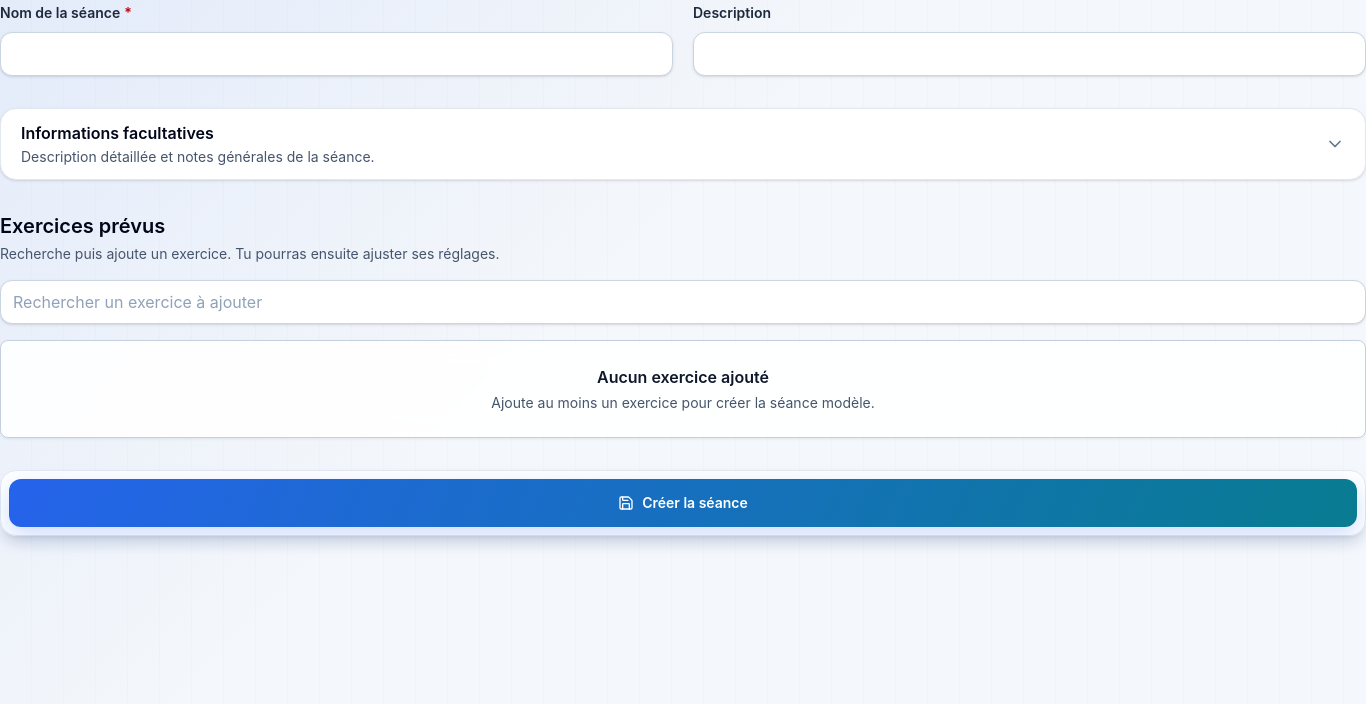
Test case: WorkoutTemplateForm › réorganise et supprime les exercices depuis leurs cartes compactes
Type "Développé couché" into the search field named "Rechercher un exercice à ajouter au modèle" at [683, 302], box [0,280,1365,324]
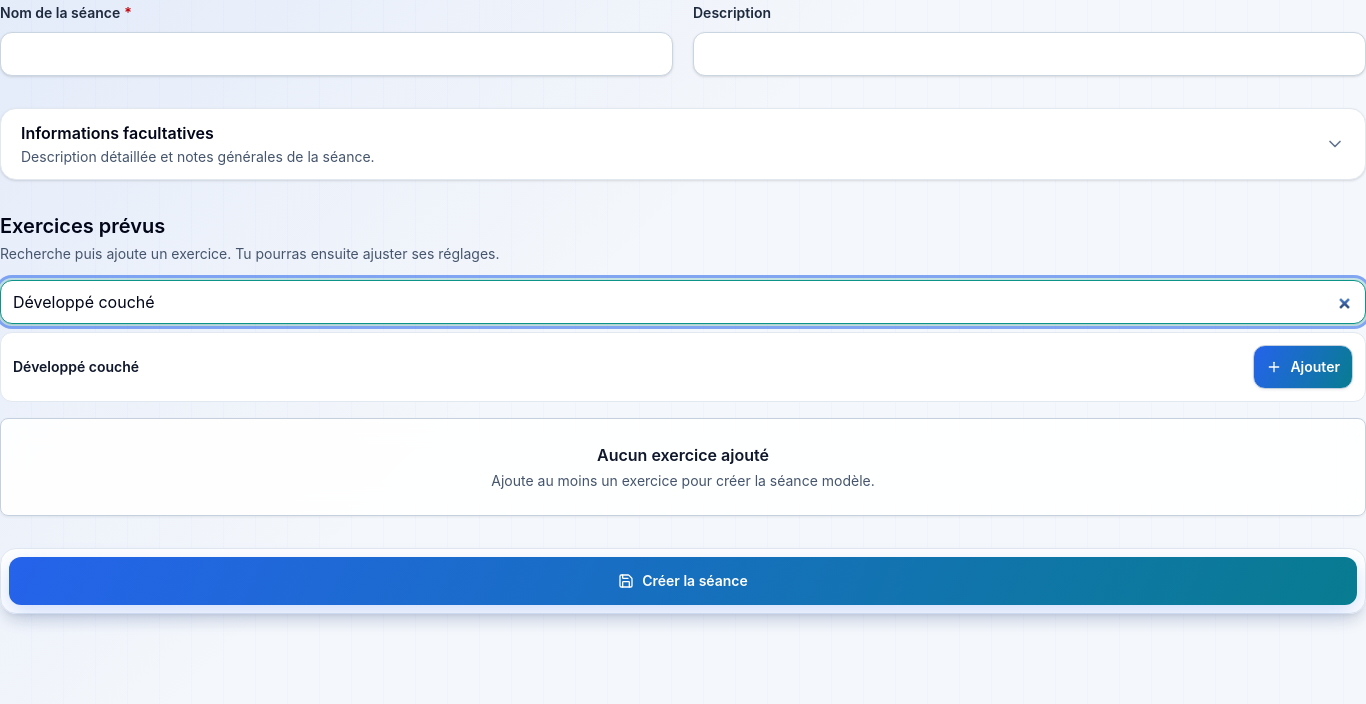
Click the button "Ajouter" at [1303, 367], box [1253,345,1353,389]
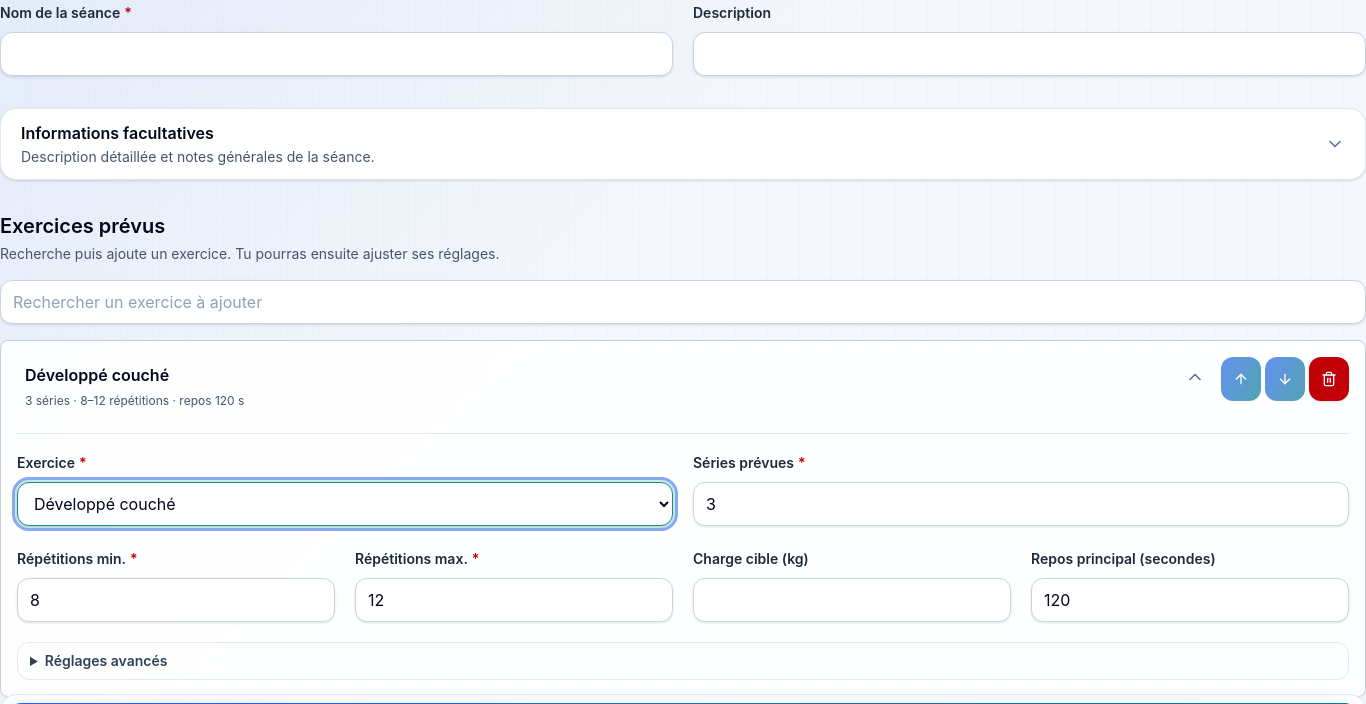
Type "Gainage" into the search field named "Rechercher un exercice à ajouter au modèle" at [683, 302], box [0,280,1365,324]
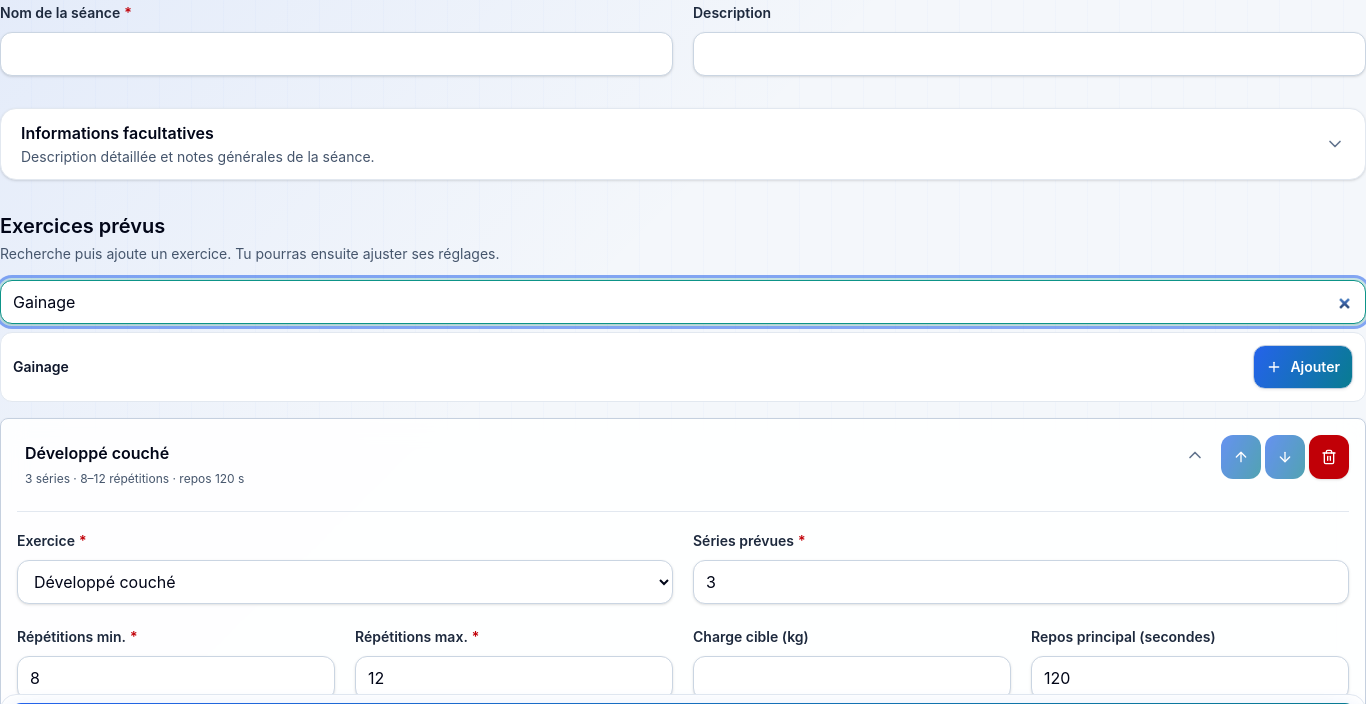
Click the button "Ajouter" at [1303, 367], box [1253,345,1353,389]
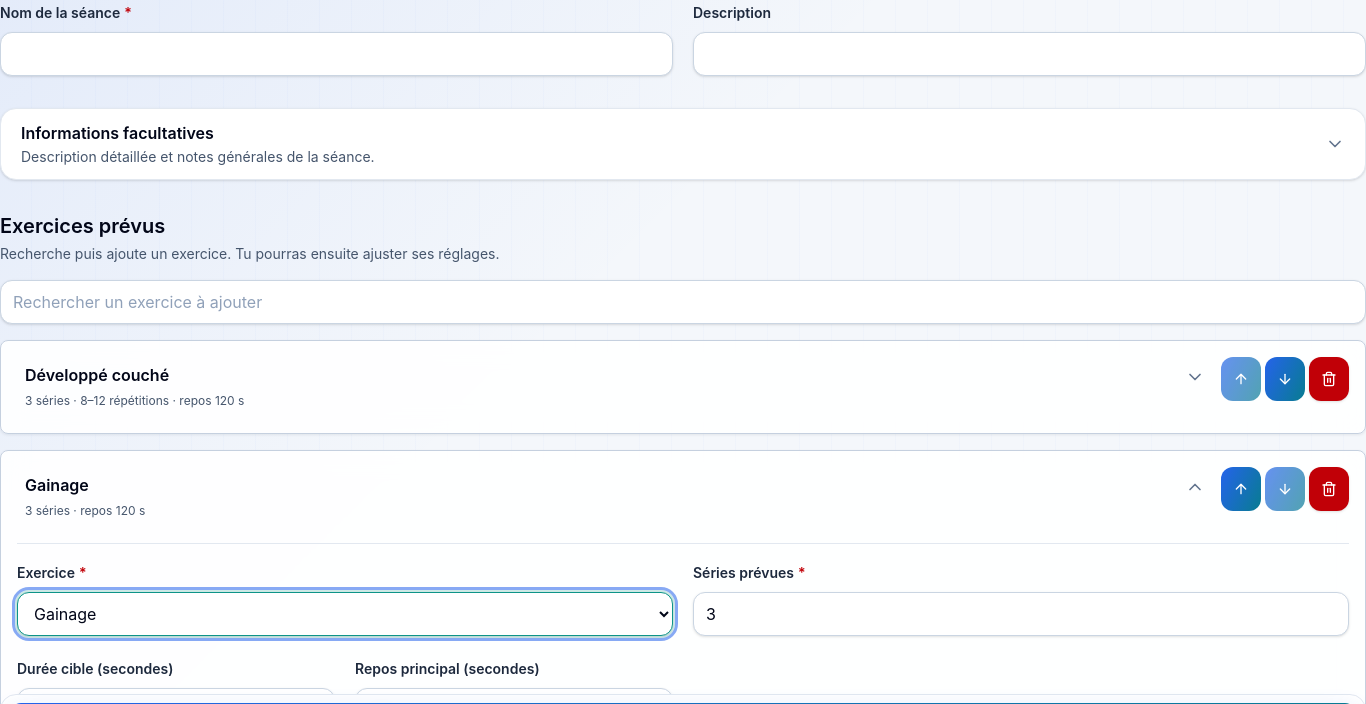
Click the button named "Monter l’exercice 2" at [1241, 489], box [1221,467,1261,511]
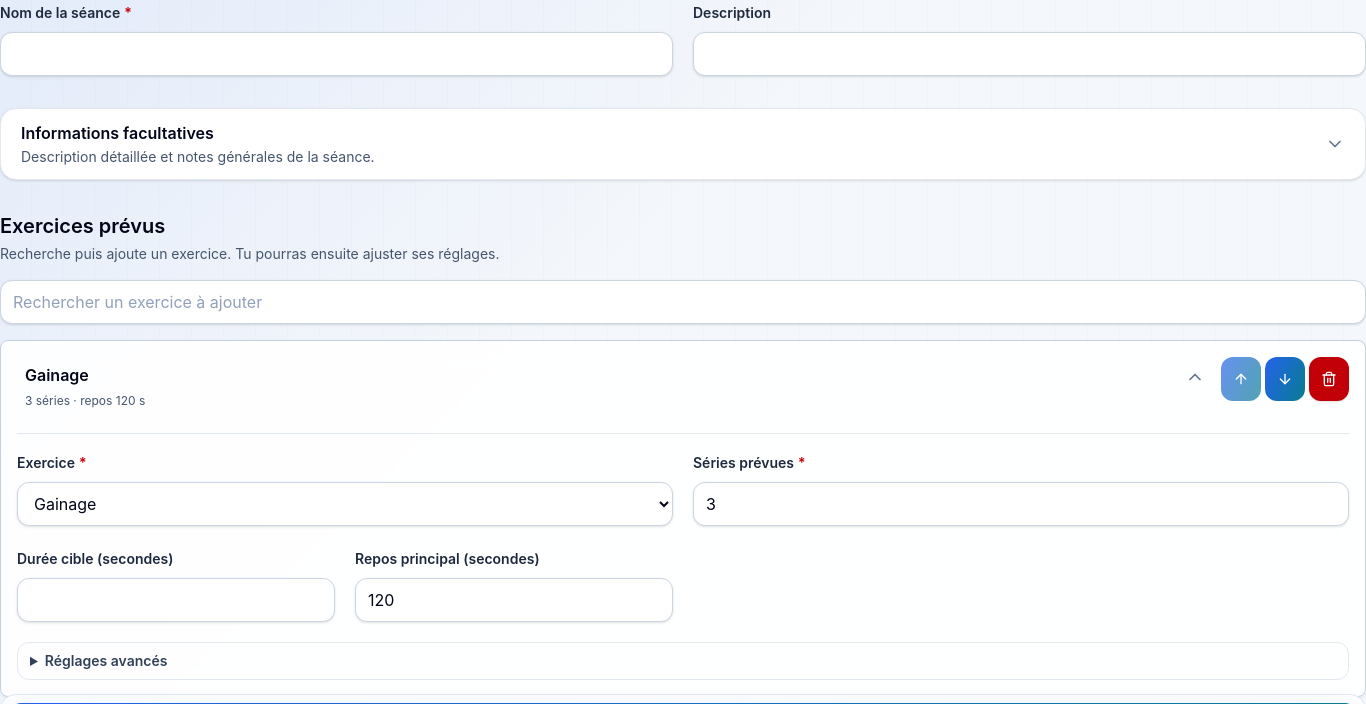
Click the button named "Supprimer l’exercice 1" at [1329, 379], box [1309,357,1349,401]
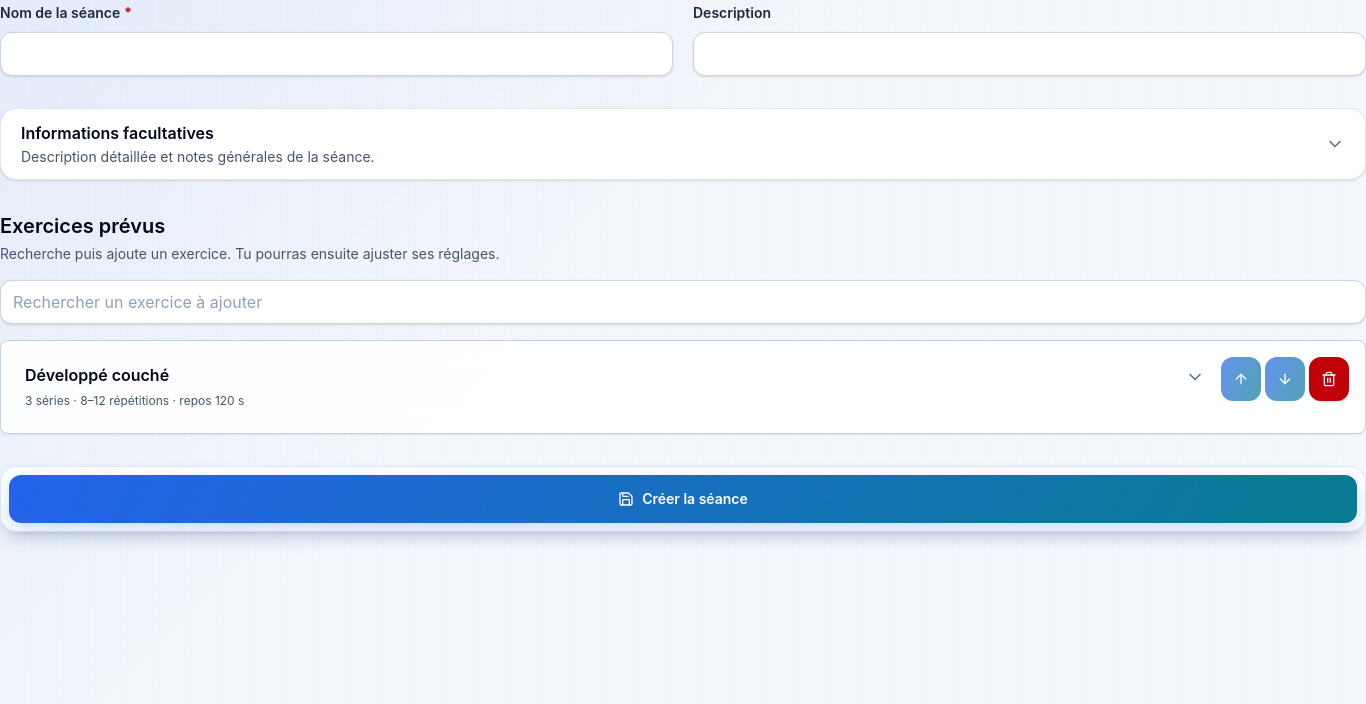
Expected: the button "Développé couché 3 séries · 8–12 répétitions · repos 120 s" is shown, [17,357,1213,417]
Expected: the button "Gainage" is gone
